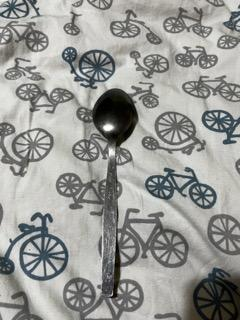spoon: (93, 86, 139, 300)
